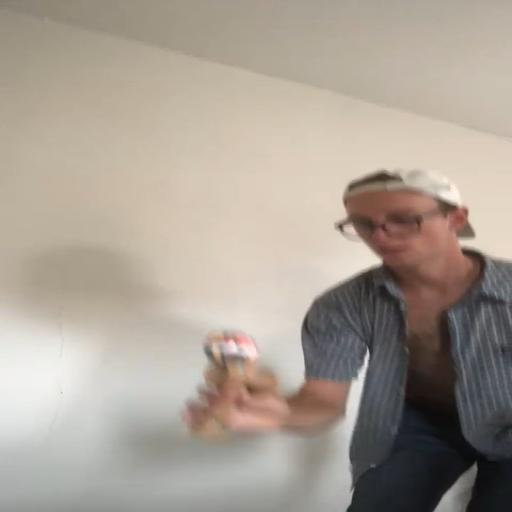kendama_ball: (203, 328, 260, 365)
